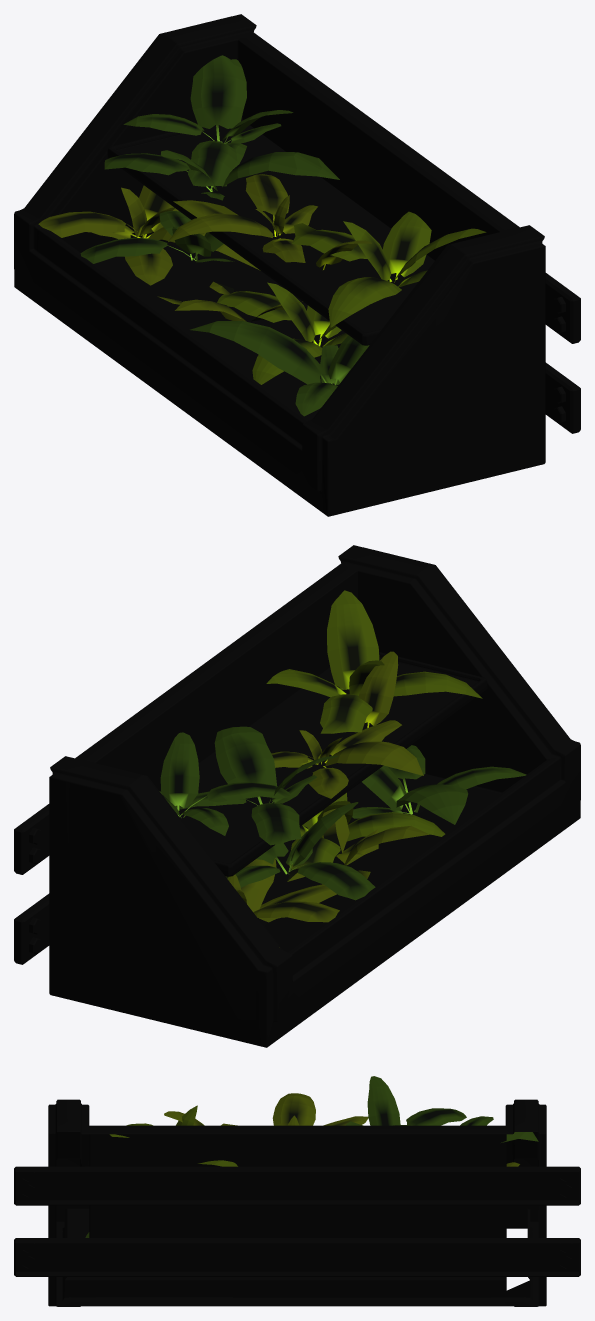
Rendered from SmallPlantBox.fbx.
3 views of the same model, one above another, from view 1: azimuth 30°, elevation 25°; view 2: azimuth 150°, elevation 25°; view 3: azimuth 270°, elevation 25° (orthographic). The views are drawn at different scales.
Visible parts, largest first — view 1: plantpot_base6; view 2: plantpot_base6; view 3: plantpot_base6.
Boxes of the visible parts, x1=… form: plantpot_base6: x1=14, y1=14, x2=580, y2=516; plantpot_base6: x1=14, y1=545, x2=580, y2=1047; plantpot_base6: x1=14, y1=1076, x2=580, y2=1306.
Bounding box in the file's own units: 48.27 × 40.89 × 118.
